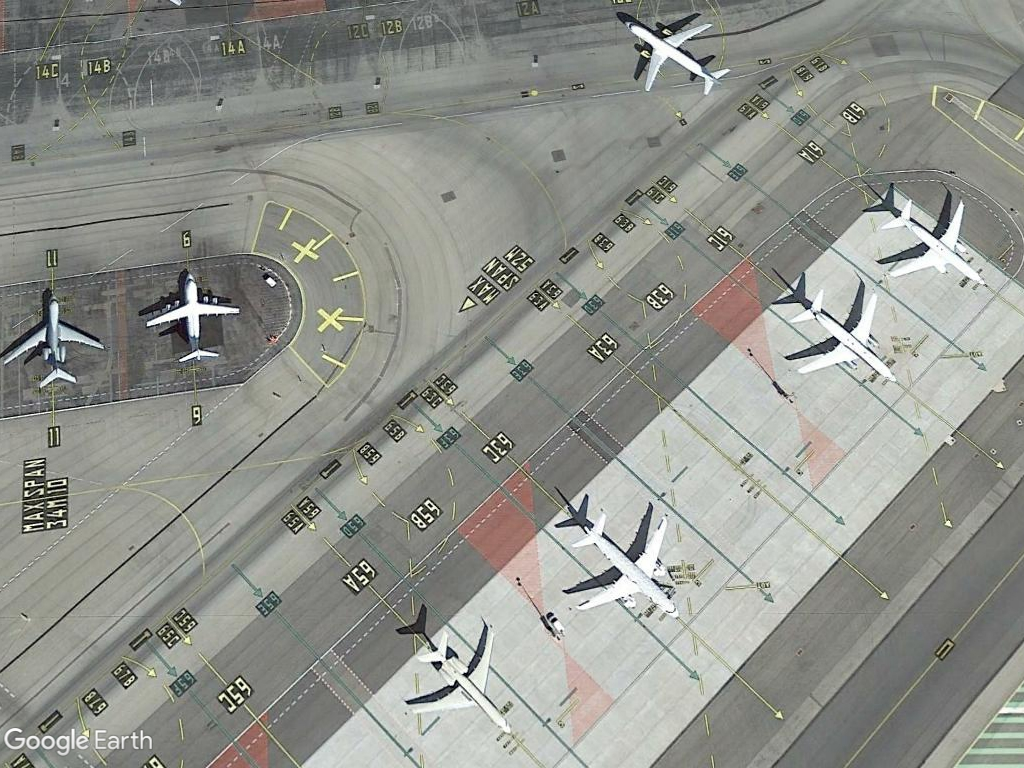airliner: (565, 510, 689, 622), (792, 285, 903, 391), (0, 289, 108, 394), (884, 193, 991, 295), (141, 269, 242, 368)
chartered: (411, 620, 520, 737)
